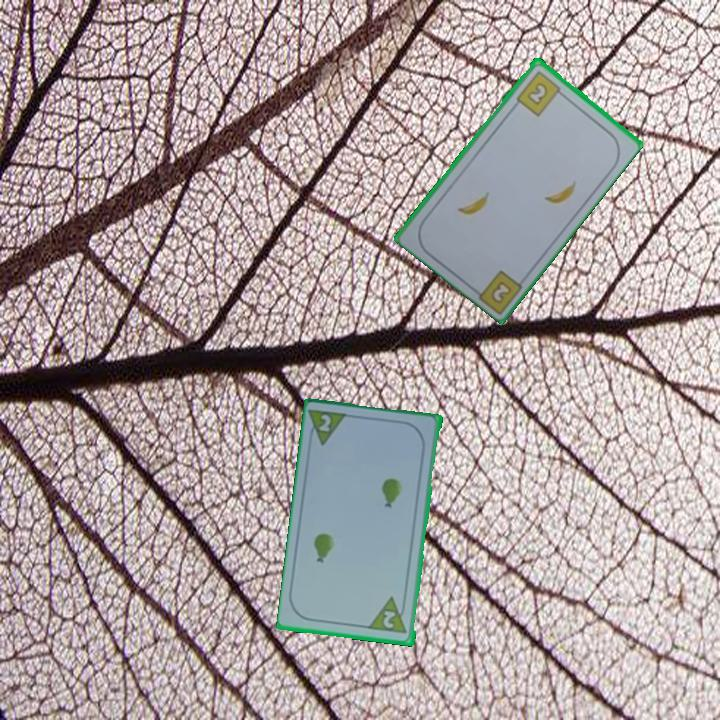2b: (513, 67, 567, 119), (487, 277, 515, 306)
2p: (380, 607, 399, 632), (316, 411, 334, 435)
